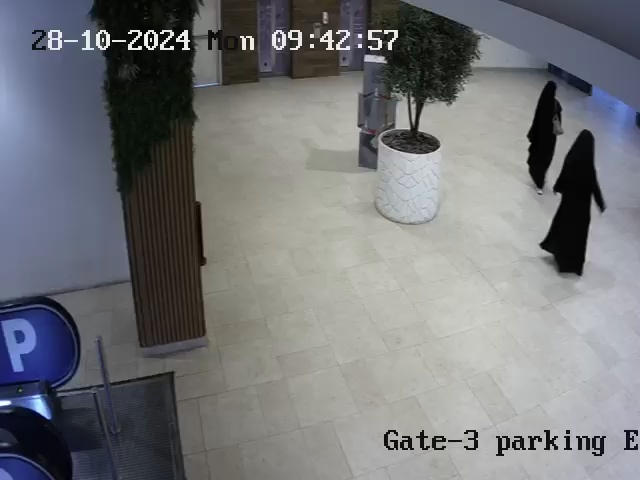female: (547, 121, 613, 282), (527, 72, 566, 197)
